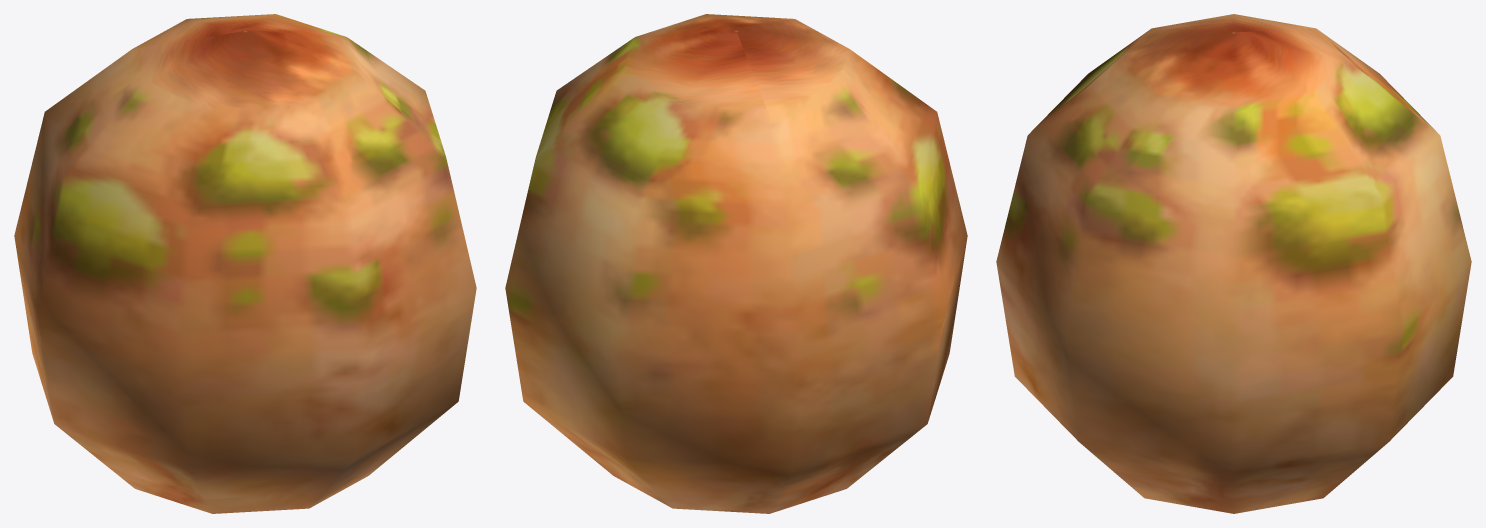
The model's file is edb_food_fruit_melon_l0.fbx.
3 renders of one model, left to right at view 1: azimuth 30°, elevation 25°; view 2: azimuth 150°, elevation 25°; view 3: azimuth 270°, elevation 25°, orthographic.
Visible parts, largest first — view 1: mesh_node; view 2: mesh_node; view 3: mesh_node.
Part boxes in pixels (bbox=[...]): mesh_node: bbox=[14, 14, 476, 513]; mesh_node: bbox=[505, 14, 967, 513]; mesh_node: bbox=[996, 14, 1471, 513].
Bounding box in the file's own units: 0.2021 × 0.2083 × 0.2021.
